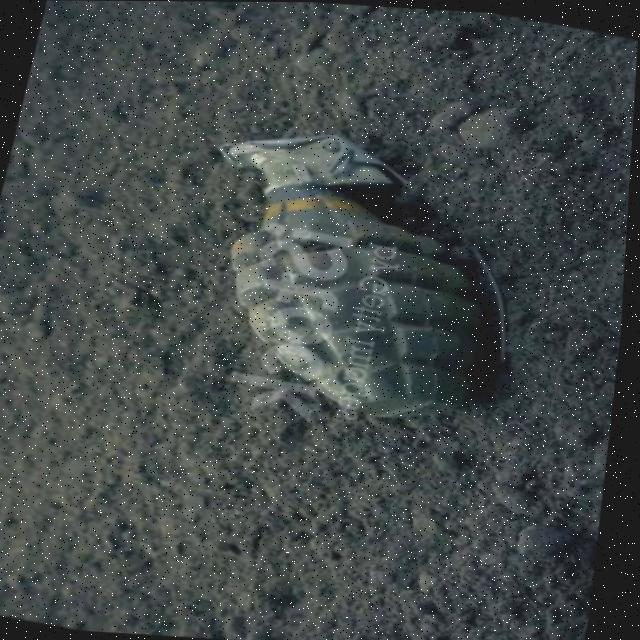grenade: (154, 107, 561, 444)
